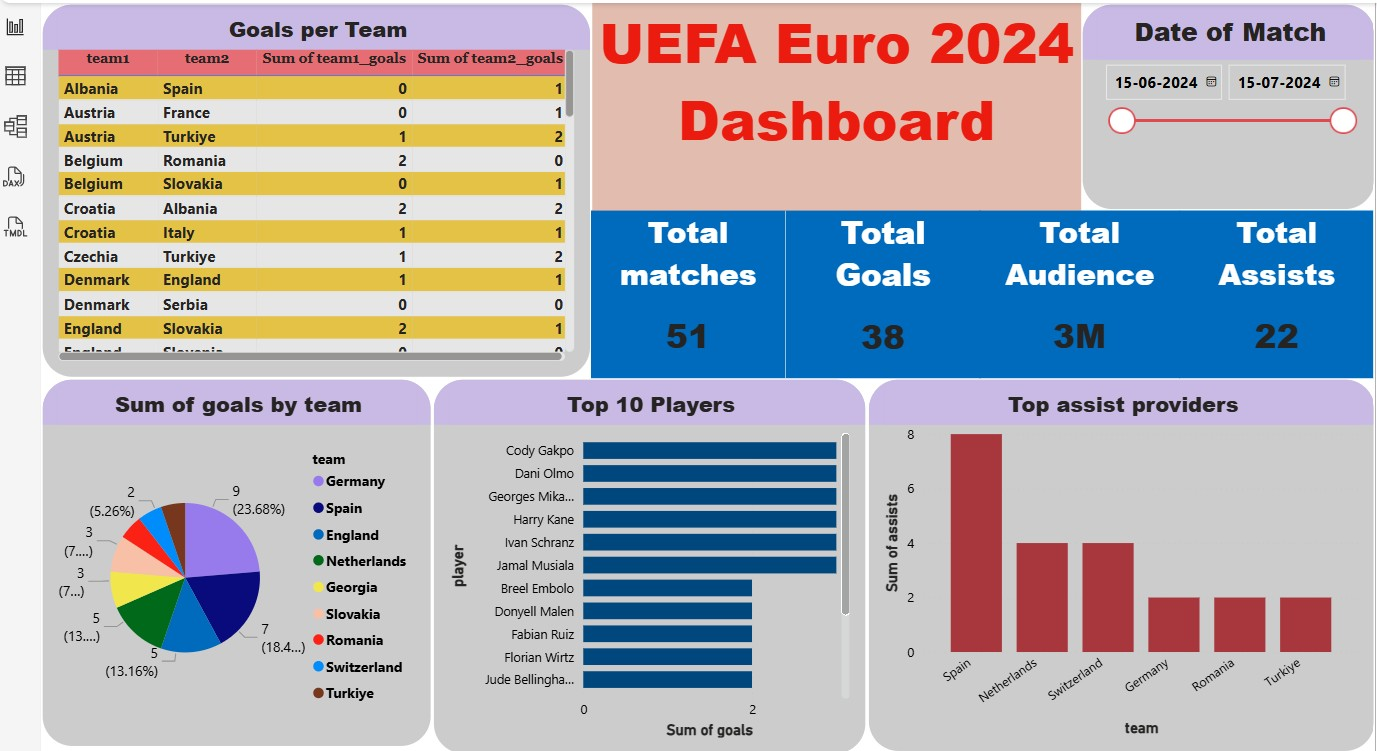

This screenshot's page, from the dashboard's own definition file:
{"tool":"powerbi","page":{"name":"Page 1","canvas":[1280,720],"ordinal":0},"visuals":[{"type":"pieChart","fields":{"Category":["public goals.team"],"Y":["Sum(public goals.goals)"]},"box":[0,359.5,375.5,354.2],"z":0},{"type":"barChart","title":"Top 10 Players","fields":{"Category":["public goals.player"],"Y":["Sum(public goals.goals)"]},"box":[375.5,359.5,416.5,361.3],"z":1000},{"type":"columnChart","title":"Top assist providers","fields":{"Category":["public assists.team"],"Y":["Sum(public assists.assists)"]},"box":[792,359.5,487.7,359.5],"z":2000},{"type":"tableEx","title":"Goals per Team","fields":{"Values":["public matches.team1","public matches.team2","Sum(public matches.team1_goals)","Sum(public matches.team2_goals)"]},"box":[0,0,527.6,359.8],"z":3000},{"type":"slicer","title":"Date of Match","fields":{"Values":["public matches.date_of_match"]},"box":[996.7,0,283,199.3],"z":4000},{"type":"card","title":"Total matches","fields":{"Values":["public matches.total_matches"]},"box":[527.6,199.1,186.3,160.7],"z":5000},{"type":"card","title":"Total Goals","fields":{"Values":["public goals.total_goals"]},"box":[714,199.1,186.3,160.7],"z":6000},{"type":"card","title":"Total Audience","fields":{"Values":["public matches.total_audience"]},"box":[900.3,199.1,192,160.7],"z":7000},{"type":"card","title":"Total Assists","fields":{"Values":["public assists.total_assists"]},"box":[1092.3,199.1,186.3,160.7],"z":7001},{"type":"textbox","title":"Euro Cup 2024 Dashboard","box":[528.6,0,468.1,199.3],"z":7002}]}

Visuals, with their boxes on the page's 1280x720 design canvas (x1, y1, x2, y2). These are canvas units, not pixel positions in the 1377x751 screenshot, which may show the page scaled, cropped or inside an application window:
pieChart - public goals.team x Sum(public goals.goals): 0/360/376/714
"Top 10 Players" barChart: 376/360/792/721
"Top assist providers" columnChart: 792/360/1280/719
"Goals per Team" tableEx: 0/0/528/360
"Date of Match" slicer: 997/0/1280/199
"Total matches" card: 528/199/714/360
"Total Goals" card: 714/199/900/360
"Total Audience" card: 900/199/1092/360
"Total Assists" card: 1092/199/1279/360
"Euro Cup 2024 Dashboard" textbox: 529/0/997/199
